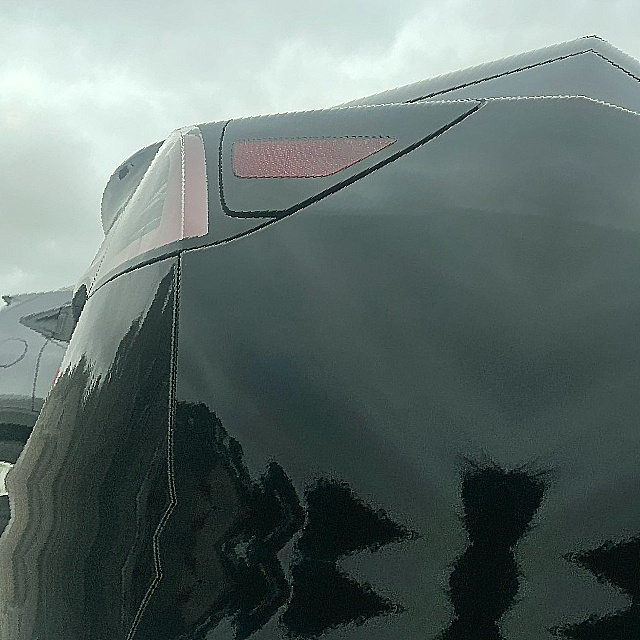reflector: (225, 116, 397, 197)
